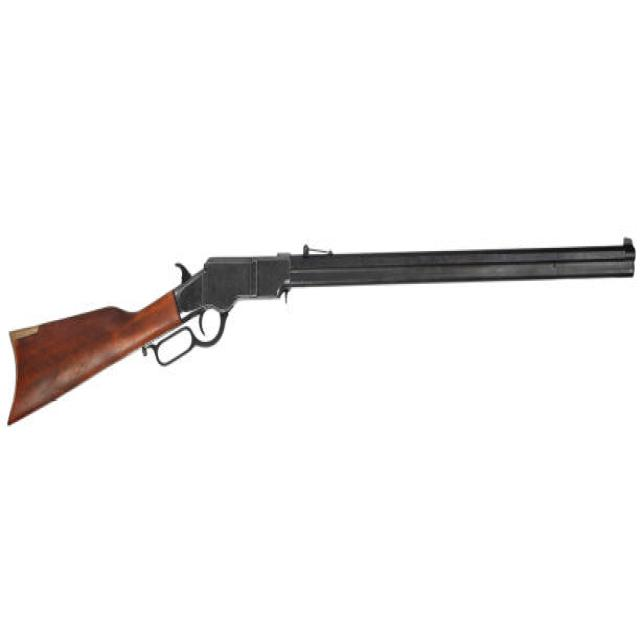rifle: (4, 219, 640, 433)
